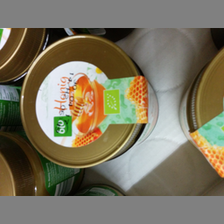honey: (14, 35, 164, 170)
